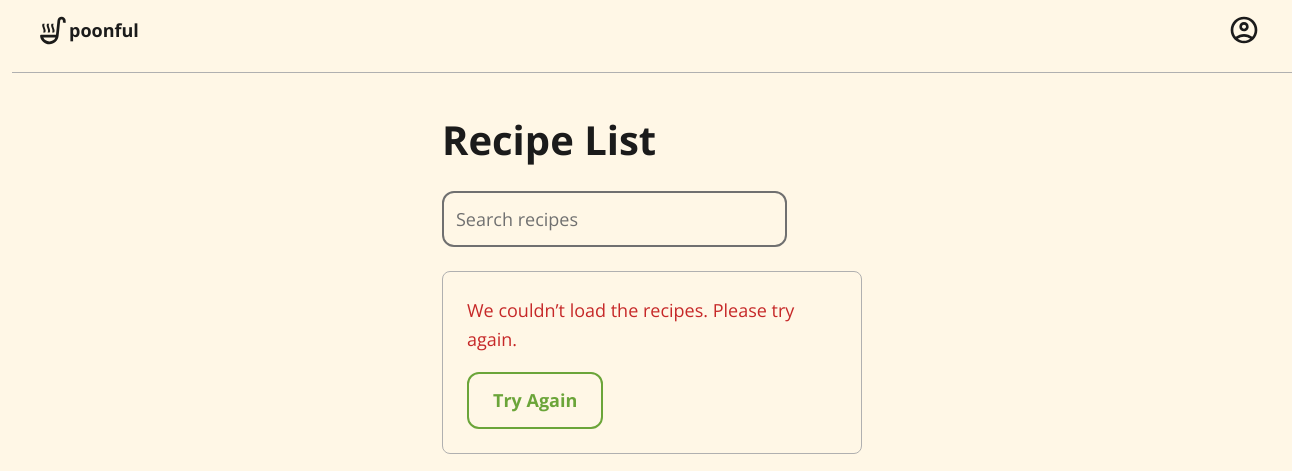
Scenario: offers a working retry after a recipe request fails
The width and height of the screenshot is (1292, 471).
Expected: the message shows "We couldn’t load the recipes.", [467,298,794,351]
Step 1. Click the button "Try Again" → click(535, 400), box [467,372,603,429]
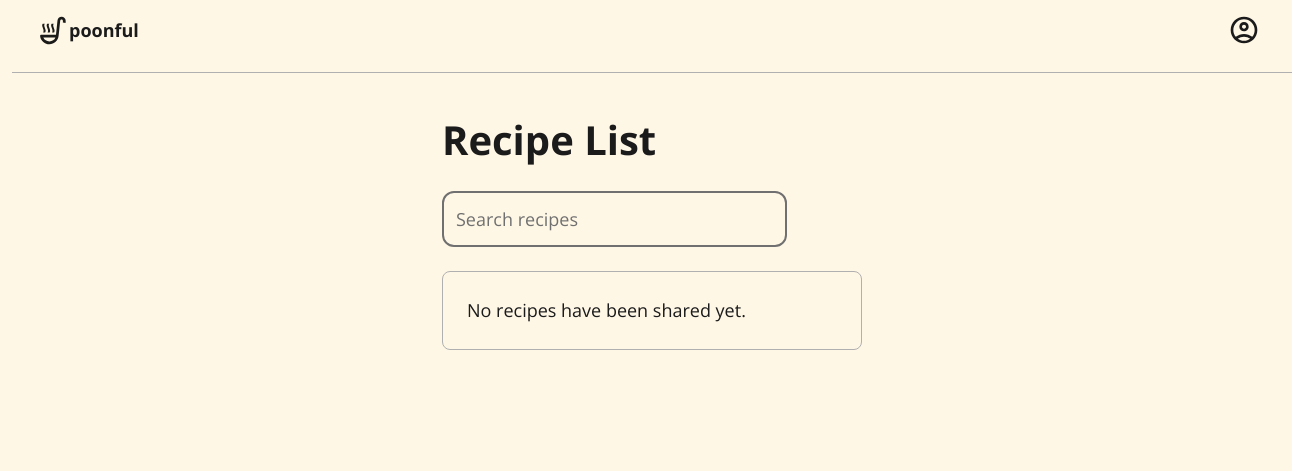
Expected: the text "No recipes have been shared yet." is shown, [442,271,862,350]
